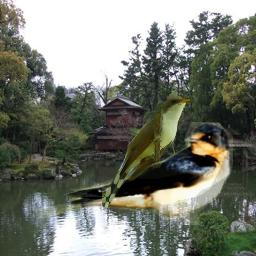Cuckoo: (102, 96, 192, 207)
Swallow: (34, 122, 233, 225)
